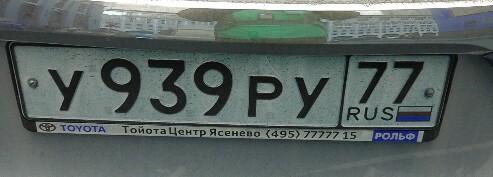license-plateSW: (11, 44, 457, 133)
